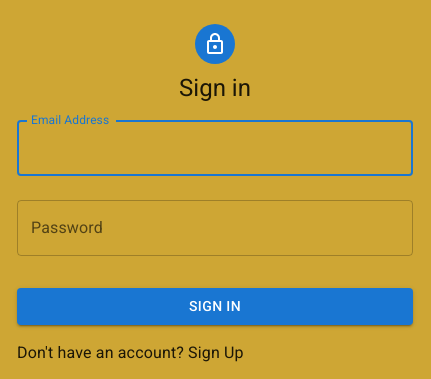
SignIn Component › generates and displays OTP after successful login
This screenshot has width=431, height=379.
Type "test@example.com" into the field labelled "Email Address" at (215, 148), box [17, 120, 413, 176]
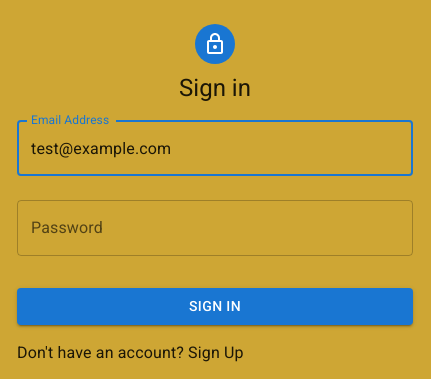
Type "password123" into the password field labelled "Password" at (215, 228), box [17, 200, 413, 256]
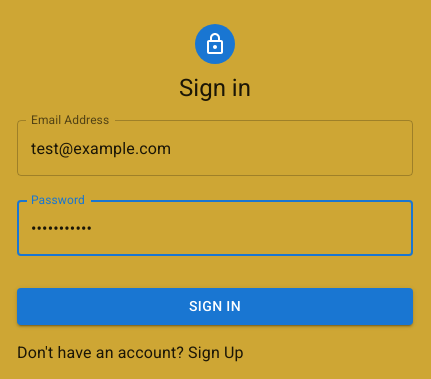
Click the button "Sign In" at (215, 306), box [17, 288, 413, 324]
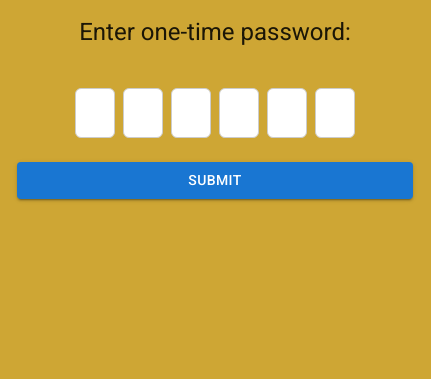
Now the heading "Enter one-time password:" is shown, box [79, 16, 351, 48]
